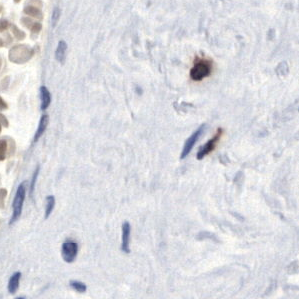Lymphocyte: (188, 61, 209, 81)
